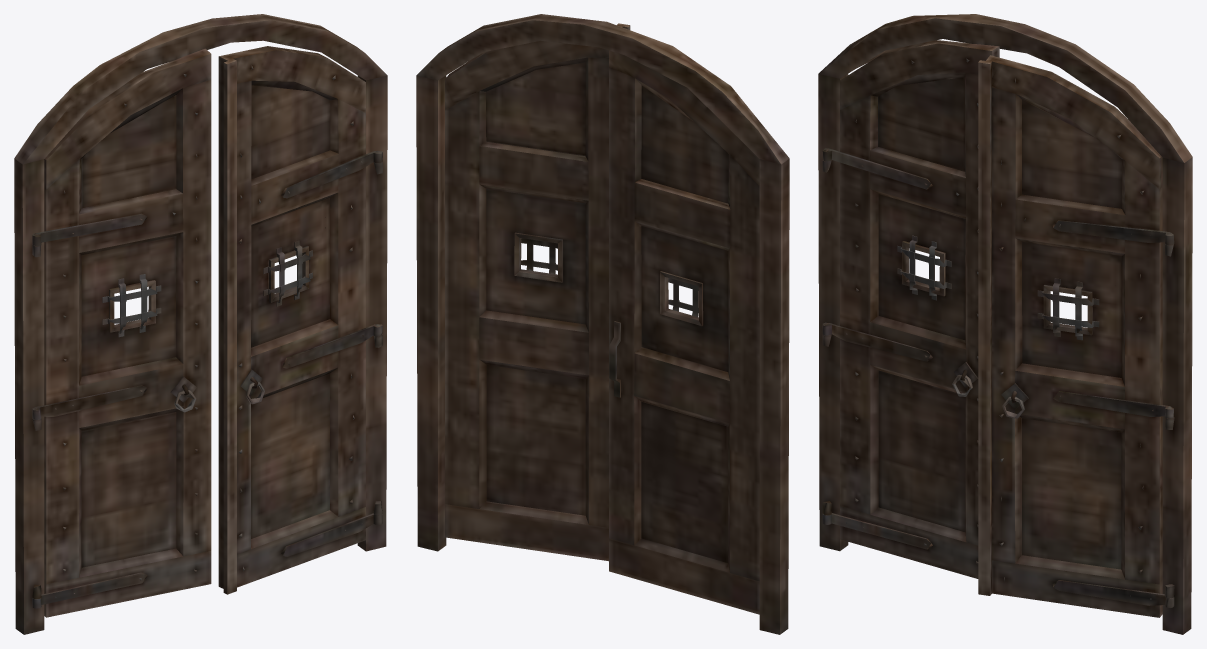
Rendered from door-castle.lite.20e4222a.glb.
3 views of the same model, side by side, from view 1: azimuth 30°, elevation 25°; view 2: azimuth 150°, elevation 25°; view 3: azimuth 330°, elevation 25° (orthographic).
Parts seen in each view (by area): view 1: model; view 2: model; view 3: model.
Boxes of the visible parts, x1,y1,x2,y2 form: model: (14, 14, 387, 634); model: (416, 14, 789, 634); model: (818, 14, 1192, 634).
Size of the model in its own units: 2.01 by 2.96 by 0.2963.
Materials: 1 (1 with a texture image).
